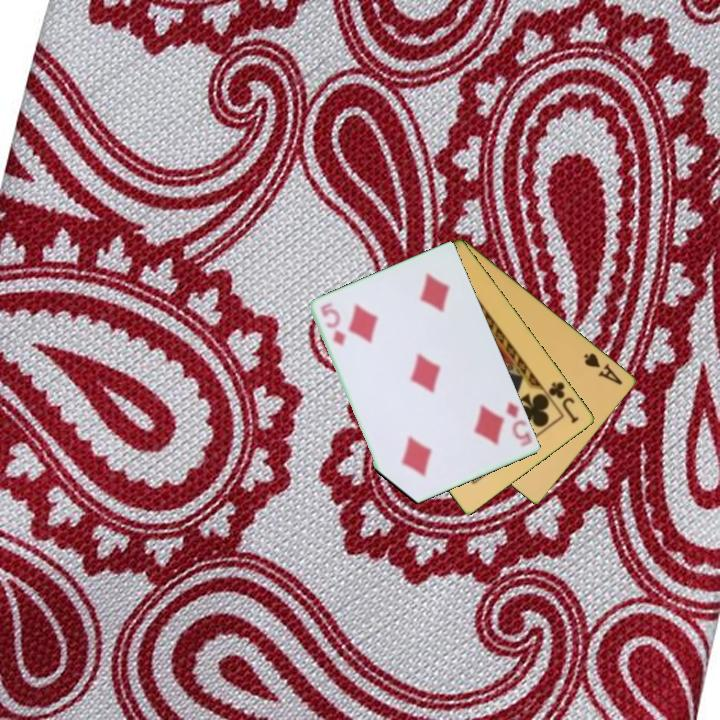5d: (502, 398, 535, 447), (317, 300, 348, 348)
As: (580, 349, 626, 388)
Jc: (545, 378, 582, 426)
